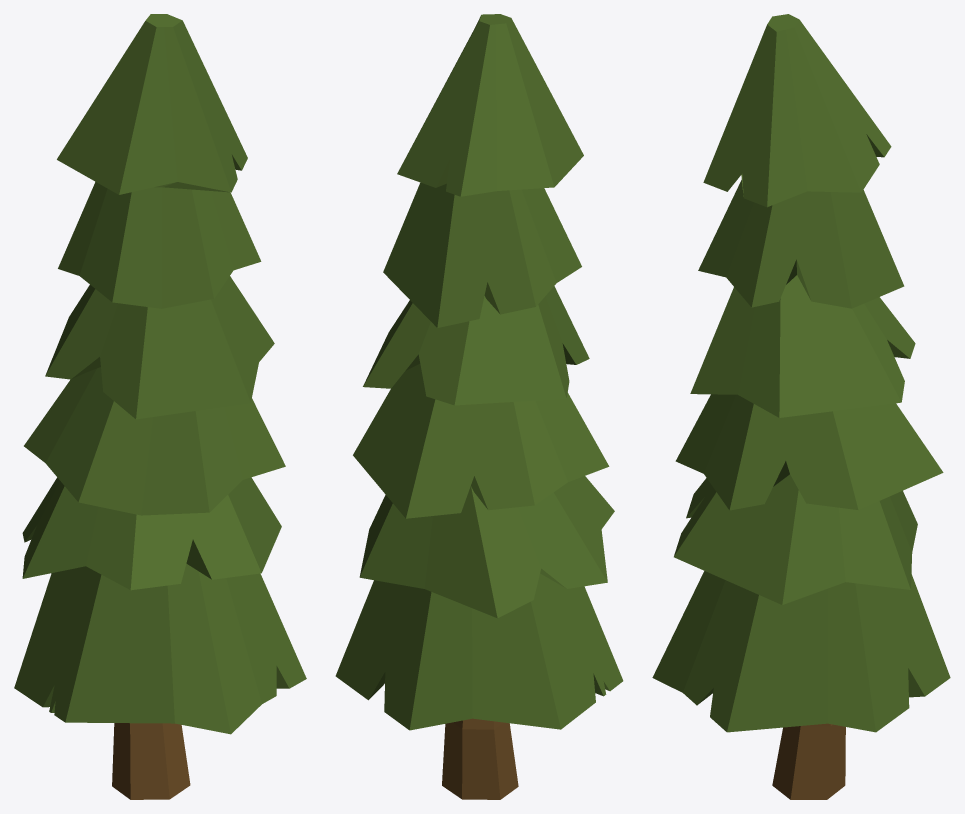
Rendered from PineTree1.fbx.
3 views of the same model, side by side, from view 1: azimuth 30°, elevation 25°; view 2: azimuth 150°, elevation 25°; view 3: azimuth 270°, elevation 25° (orthographic). The views are drawn at different scales.
Parts seen in each view (by area): view 1: Cylinder.001, Cylinder.003, Cylinder.005, Cylinder.004, Cylinder.006, Cylinder.002, Cylinder; view 2: Cylinder.001, Cylinder.003, Cylinder.002, Cylinder.005, Cylinder.006, Cylinder.004, Cylinder; view 3: Cylinder.001, Cylinder.005, Cylinder.003, Cylinder.004, Cylinder.002, Cylinder.006, Cylinder.
Boxes of the visible parts, x1,y1,x2,y2 form: Cylinder.001: [14, 563, 306, 734]; Cylinder.003: [24, 367, 285, 515]; Cylinder.005: [57, 14, 247, 194]; Cylinder.004: [45, 276, 274, 419]; Cylinder.006: [58, 182, 261, 308]; Cylinder.002: [22, 477, 281, 590]; Cylinder: [112, 723, 190, 799]; Cylinder.001: [335, 573, 623, 730]; Cylinder.003: [353, 364, 609, 518]; Cylinder.002: [359, 476, 614, 618]; Cylinder.005: [397, 14, 583, 196]; Cylinder.006: [383, 182, 581, 327]; Cylinder.004: [363, 286, 589, 405]; Cylinder: [442, 718, 518, 799]; Cylinder.001: [652, 571, 950, 732]; Cylinder.005: [703, 14, 891, 207]; Cylinder.003: [675, 394, 943, 510]; Cylinder.004: [690, 275, 915, 417]; Cylinder.002: [674, 474, 917, 604]; Cylinder.006: [698, 180, 904, 308]; Cylinder: [772, 723, 845, 799].
Size of the model in its own units: 361 by 1085 by 384.
